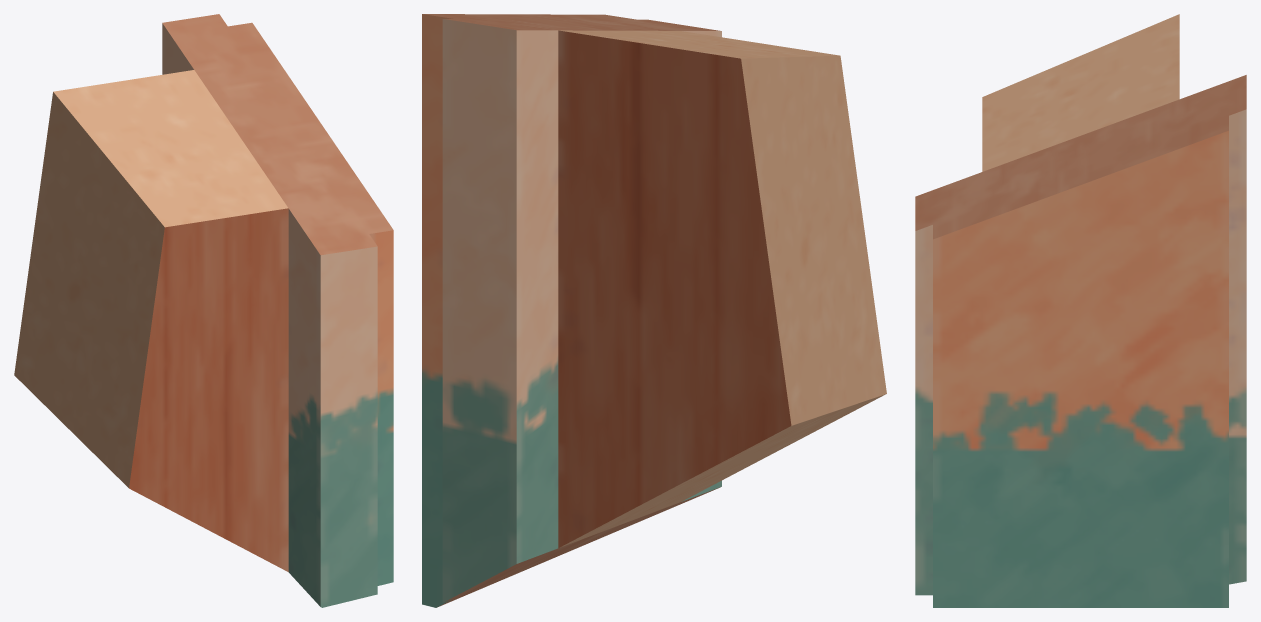
Rendered from towngate_s12.fbx.
3 views of the same model, side by side, from view 1: azimuth 30°, elevation 25°; view 2: azimuth 150°, elevation 25°; view 3: azimuth 270°, elevation 25° (orthographic). The views are drawn at different scales.
Parts seen in each view (by area): view 1: towngate_s12; view 2: towngate_s12; view 3: towngate_s12.
Boxes of the visible parts, bbox=[...] form: towngate_s12: bbox=[14, 14, 393, 607]; towngate_s12: bbox=[422, 14, 886, 607]; towngate_s12: bbox=[915, 14, 1246, 607].
Bounding box in the file's own units: 3.21 × 5.5 × 3.36.
